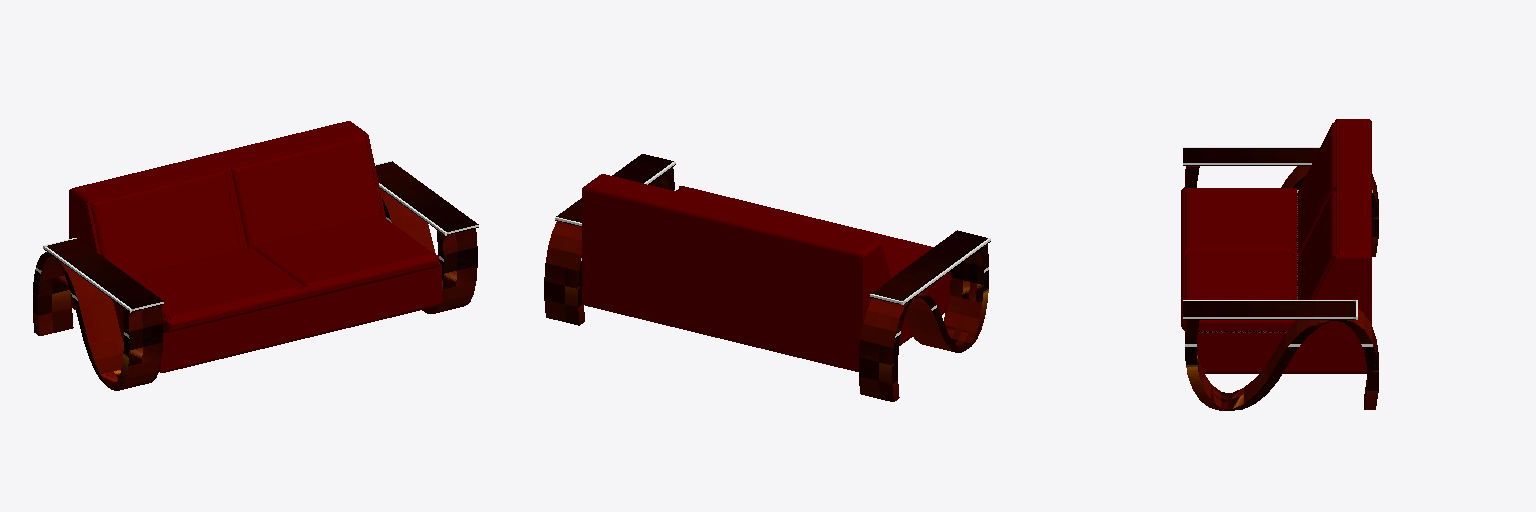
The picture shows the model from 3 angles: view 1: azimuth 30°, elevation 25°; view 2: azimuth 150°, elevation 25°; view 3: azimuth 270°, elevation 25°; orthographic projection.
Parts seen in each view (by area): view 1: Mesh6 sofa1 Model, Mesh7 sofa1 Model, Mesh8 sofa1 Model, Mesh3 Group_4_1 sofa1 Model, Mesh9 sofa1 Model, Mesh5 sofa1 Model, Mesh4 Group_4_2 sofa1 Model, Mesh2 Component_1_2 sofa1 Model, Mesh1 Component_1_1 sofa1 Model; view 2: Mesh6 sofa1 Model, Mesh3 Group_4_1 sofa1 Model, Mesh4 Group_4_2 sofa1 Model, Mesh2 Component_1_2 sofa1 Model, Mesh5 sofa1 Model, Mesh1 Component_1_1 sofa1 Model, Mesh9 sofa1 Model; view 3: Mesh6 sofa1 Model, Mesh5 sofa1 Model, Mesh4 Group_4_2 sofa1 Model, Mesh9 sofa1 Model, Mesh1 Component_1_1 sofa1 Model, Mesh8 sofa1 Model, Mesh2 Component_1_2 sofa1 Model, Mesh7 sofa1 Model, Mesh3 Group_4_1 sofa1 Model.
Part boxes in pixels (left/top/right/bottom): Mesh6 sofa1 Model: left=69, top=121, right=441, bottom=372; Mesh7 sofa1 Model: left=231, top=135, right=381, bottom=246; Mesh8 sofa1 Model: left=90, top=170, right=240, bottom=275; Mesh3 Group_4_1 sofa1 Model: left=33, top=252, right=162, bottom=390; Mesh9 sofa1 Model: left=253, top=216, right=434, bottom=286; Mesh5 sofa1 Model: left=131, top=249, right=297, bottom=319; Mesh4 Group_4_2 sofa1 Model: left=380, top=189, right=477, bottom=313; Mesh2 Component_1_2 sofa1 Model: left=43, top=238, right=163, bottom=312; Mesh1 Component_1_1 sofa1 Model: left=375, top=161, right=478, bottom=235; Mesh6 sofa1 Model: left=582, top=174, right=950, bottom=371; Mesh3 Group_4_1 sofa1 Model: left=859, top=244, right=988, bottom=401; Mesh4 Group_4_2 sofa1 Model: left=544, top=167, right=674, bottom=325; Mesh2 Component_1_2 sofa1 Model: left=870, top=230, right=990, bottom=304; Mesh5 sofa1 Model: left=813, top=219, right=933, bottom=277; Mesh1 Component_1_1 sofa1 Model: left=555, top=154, right=675, bottom=226; Mesh9 sofa1 Model: left=676, top=186, right=811, bottom=222; Mesh6 sofa1 Model: left=1181, top=119, right=1371, bottom=373; Mesh5 sofa1 Model: left=1185, top=188, right=1293, bottom=254; Mesh4 Group_4_2 sofa1 Model: left=1185, top=309, right=1378, bottom=410; Mesh9 sofa1 Model: left=1185, top=254, right=1293, bottom=299; Mesh1 Component_1_1 sofa1 Model: left=1183, top=300, right=1357, bottom=319; Mesh8 sofa1 Model: left=1298, top=122, right=1335, bottom=258; Mesh2 Component_1_2 sofa1 Model: left=1183, top=147, right=1319, bottom=165; Mesh7 sofa1 Model: left=1298, top=191, right=1335, bottom=299; Mesh3 Group_4_1 sofa1 Model: left=1185, top=166, right=1378, bottom=256.
Size of the model in its own units: 2.71 by 1.04 by 1.33.
Materials: 3 (2 with a texture image).